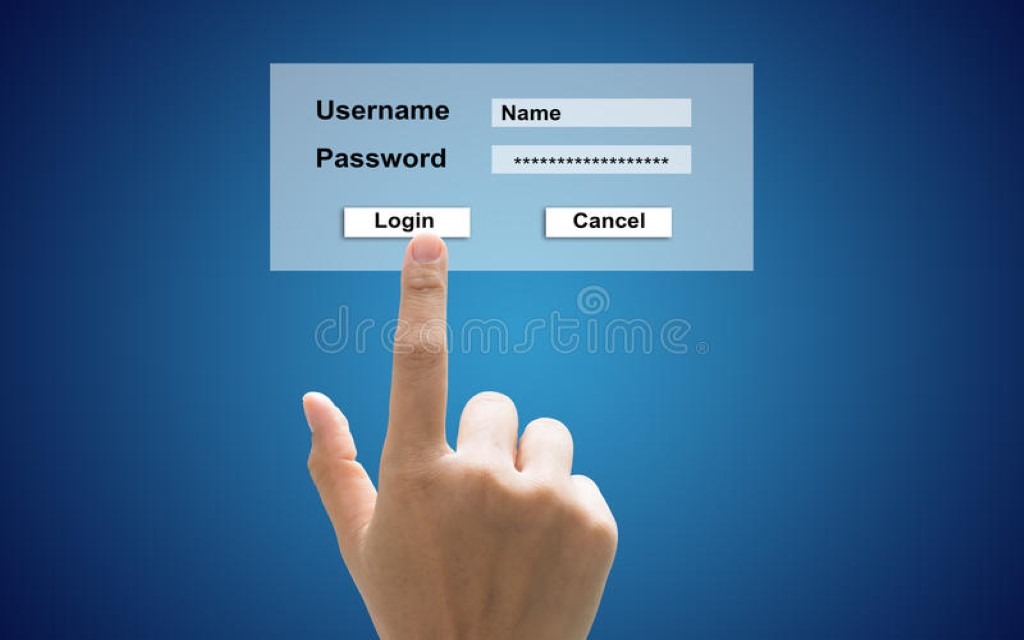button: (545, 208, 671, 239), (343, 207, 470, 237)
button_login: (343, 206, 473, 238)
label_Login: (373, 209, 436, 232)
label_Username: (313, 98, 453, 126)
label_password: (312, 145, 449, 173)
textbox: (491, 98, 690, 129), (487, 145, 691, 173)
